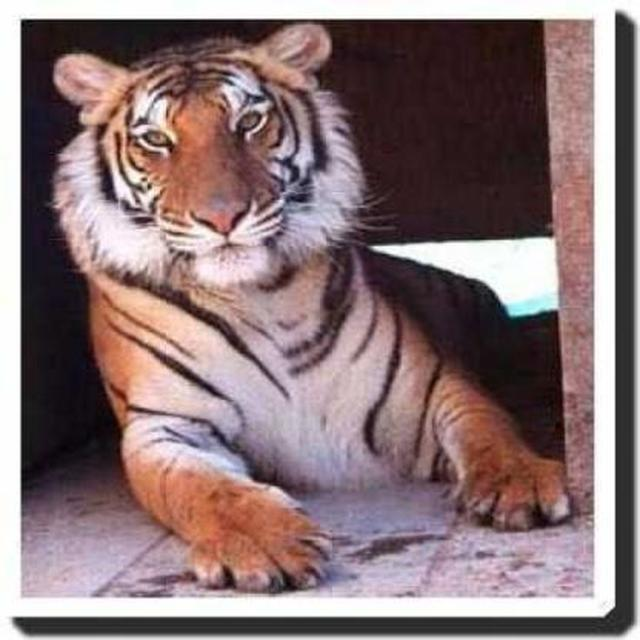tiger: (49, 21, 571, 593)
